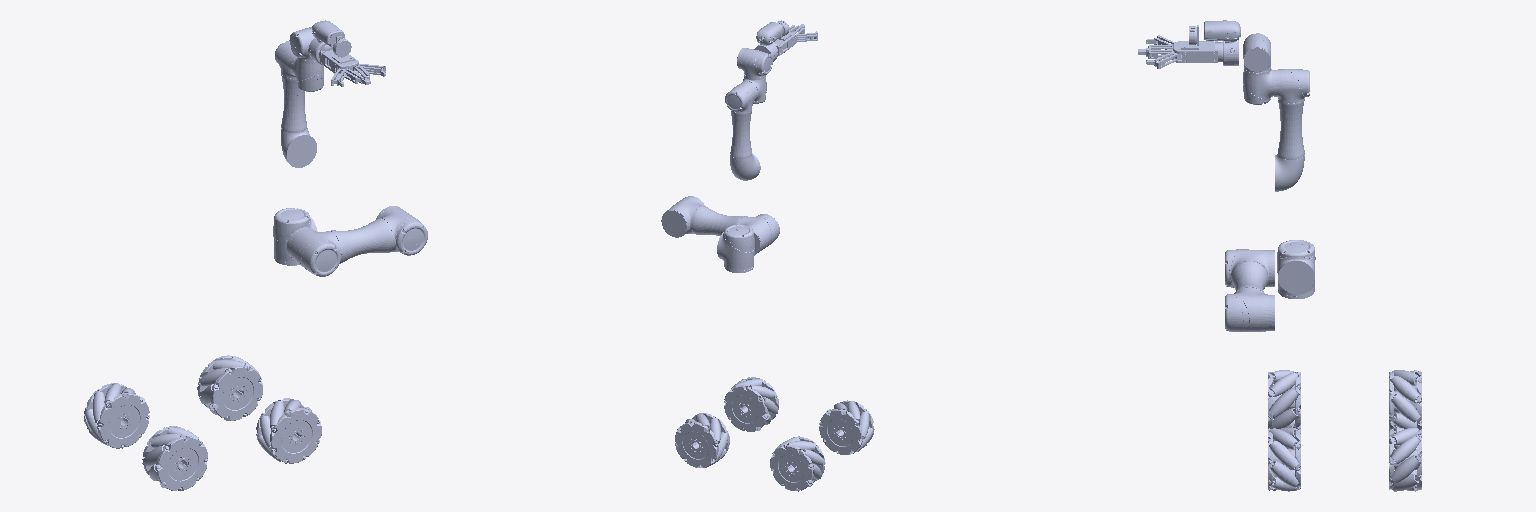
--- Facts derived from the render (not from the file) ---
The picture shows the robot from 3 angles, left to right: view 1: azimuth 30°, elevation 25°; view 2: azimuth 150°, elevation 25°; view 3: azimuth 270°, elevation 25°; orthographic projection.
Model AMR with 17 links and 16 joints (16 continuous), rooted at base_link, posed all joints at 0.
Visible links, largest first — view 1: Link2, wheel_B_R, wheel_F_R, wheel_B_L, wheel_F_L, Link3, Link6, Link1, Link4, Link5; view 2: Link2, wheel_B_R, wheel_B_L, wheel_F_R, wheel_F_L, Link3, Link1, Link6, Link5; view 3: Link2, Link3, Link6, Link1, wheel_B_R, wheel_B_L, wheel_F_R, wheel_F_L, Link5, Link4.
Link boxes in pixels (x1=…): Link2: x1=287, y1=206, x2=427, y2=276; wheel_B_R: x1=197, y1=355, x2=262, y2=420; wheel_F_R: x1=84, y1=383, x2=149, y2=448; wheel_B_L: x1=256, y1=398, x2=321, y2=463; wheel_F_L: x1=142, y1=426, x2=207, y2=490; Link3: x1=275, y1=41, x2=316, y2=167; Link6: x1=308, y1=20, x2=385, y2=86; Link1: x1=273, y1=208, x2=317, y2=265; Link4: x1=292, y1=57, x2=323, y2=91; Link5: x1=289, y1=27, x2=314, y2=59; Link2: x1=661, y1=196, x2=779, y2=254; wheel_B_R: x1=675, y1=413, x2=729, y2=467; wheel_B_L: x1=724, y1=377, x2=778, y2=431; wheel_F_R: x1=770, y1=436, x2=825, y2=491; wheel_F_L: x1=819, y1=400, x2=874, y2=454; Link3: x1=725, y1=81, x2=760, y2=180; Link1: x1=717, y1=225, x2=754, y2=272; Link6: x1=754, y1=20, x2=817, y2=61; Link5: x1=737, y1=48, x2=772, y2=77; Link2: x1=1225, y1=249, x2=1274, y2=331; Link3: x1=1273, y1=69, x2=1309, y2=191; Link6: x1=1146, y1=20, x2=1240, y2=68; Link1: x1=1277, y1=240, x2=1315, y2=298; wheel_B_R: x1=1389, y1=427, x2=1421, y2=491; wheel_B_L: x1=1268, y1=427, x2=1300, y2=491; wheel_F_R: x1=1389, y1=370, x2=1421, y2=429; wheel_F_L: x1=1268, y1=370, x2=1300, y2=429; Link5: x1=1243, y1=33, x2=1270, y2=71; Link4: x1=1243, y1=67, x2=1272, y2=104.
Size in the robot's own frame: 0.9605 by 0.9035 by 1.65 metres.
16 mesh visuals loaded from 17 distinct referenced files (16 binary STL); not drawn: 1 (reference not matched to a file when rendering).

URDF robot description (AMR):
<?xml version="1.0" encoding="utf-8"?>
<!-- This URDF was automatically created by SolidWorks to URDF Exporter! Originally created by Stephen Brawner ([email redacted])
     Commit Version: 1.5.1-0-g916b5db  Build Version: 1.5.7152.31018
     For more information, please see http://wiki.ros.org/sw_urdf_exporter -->
<robot
  name="AMR">
  <link
    name="base_link">
    <inertial>
      <origin
        xyz="-0.196606705292027 0.159554091935045 -0.273511077260373"
        rpy="0 0 0" />
      <mass
        value="500.7267203354665" />
      <inertia
        ixx="0.245199821787348"
        ixy="-0.0146020356478743"
        ixz="0.00114585040763245"
        iyy="0.01842185935952"
        iyz="0.00568904788569762"
        izz="0.017511925728549" />
    </inertial>
    <visual>
      <origin
        xyz="0 0 0"
        rpy="0 0 0" />
      <geometry>
        <mesh
          filename="package://robot_urdf/meshes/base_link.STL" />
      </geometry>
      <material
        name="">
        <color
          rgba="0.752941176470588 0.752941176470588 0.752941176470588 1" />
      </material>
    </visual>
    <collision>
      <origin
        xyz="0 0 0"
        rpy="0 0 0" />
      <geometry>
        <mesh
          filename="package://robot_urdf/meshes/base_link.STL" />
      </geometry>
    </collision>
  </link>
  <link
    name="Link1">
    <inertial>
      <origin
        xyz="-3.9557557949727E-07 -0.00516519388667518 -0.00167929259360572"
        rpy="0 0 0" />
      <mass
        value="3" />
      <inertia
        ixx="0.014235114183528"
        ixy="-3.6087403321191E-09"
        ixz="-3.6752928019213E-09"
        iyy="0.01335589384967783"
        iyz="0.000490266026627554"
        izz="0.01374799670943419" />
    </inertial>
    <visual>
      <origin
        xyz="0 0 0"
        rpy="0 0 0" />
      <geometry>
        <mesh
          filename="package://robot_urdf/meshes/Link1.STL" />
      </geometry>
      <material
        name="">
        <color
          rgba="0.792156862745098 0.819607843137255 0.933333333333333 1" />
      </material>
    </visual>
    <collision>
      <origin
        xyz="0 0 0"
        rpy="0 0 0" />
      <geometry>
        <mesh
          filename="package://robot_urdf/meshes/Link1.STL" />
      </geometry>
    </collision>
  </link>
  <joint
    name="J1"
    type="continuous">
    <origin
      xyz="0 0 0.1475"
      rpy="0 0 0" />
    <parent
      link="base_link" />
    <child
      link="Link1" />
    <axis
      xyz="0 0 1" />
    <limit
      lower="-4.7124"
      upper="4.7124"
      effort="150"
      velocity="3.15" />
    <dynamics
      damping="100"
      friction="0.1" />
    <safety_controller
      soft_upper="4.5623"
      soft_lower="-4.5623"
      k_position="20"
      k_velocity="0" />
</joint>
  <link
    name="Link2">
    <inertial>
      <origin
        xyz="-1.43281762434376E-06 -0.166801030300401 -0.0802984213812574"
        rpy="0 0 0" />
      <mass
        value="5.44943936541327" />
      <inertia
        ixx="0.0140432088595686"
        ixy="5.49330933805574E-08"
        ixz="-7.21091110531749E-09"
        iyy="0.01871992846258551"
        iyz="-8.63877237373935E-09"
        izz="0.014692082991395" />
    </inertial>
    <visual>
      <origin
        xyz="0 0 0"
        rpy="0 0 0" />
      <geometry>
        <mesh
          filename="package://robot_urdf/meshes/Link2.STL" />
      </geometry>
      <material
        name="">
        <color
          rgba="0.792156862745098 0.819607843137255 0.933333333333333 1" />
      </material>
    </visual>
    <collision>
      <origin
        xyz="0 0 0"
        rpy="0 0 0" />
      <geometry>
        <mesh
          filename="package://robot_urdf/meshes/Link2.STL" />
      </geometry>
    </collision>
  </link>
  <joint
    name="J2"
    type="continuous">
    <origin
      xyz="0 -0.0668 0"
      rpy="-1.5708 0 0" />
    <parent
      link="Link1" />
    <child
      link="Link2" />
    <axis
      xyz="0 0 1" />
    <limit
      lower="-3.1416"
      upper="3.1416"
      effort="150"
      velocity="3.15" />
    <dynamics
      damping="0"
      friction="0.1" />
    <safety_controller
      soft_upper="2.9915"
      soft_lower="-2.9915"
      k_position="20"
      k_velocity="0" />
</joint>
  <link
    name="Link3">
    <inertial>
      <origin
        xyz="0.163906866569285 0.00204207088293753 0.0427273661299001"
        rpy="0 0 0" />
      <mass
        value="5" />
      <inertia
        ixx="0.0142717655146959"
        ixy="-4.49505584886413E-06"
        ixz="-4.36033883588361E-05"
        iyy="0.0197557551378141"
        iyz="0.00296684636365749"
        izz="0.0110597487276951" />
    </inertial>
    <visual>
      <origin
        xyz="0 0 0"
        rpy="0 0 0" />
      <geometry>
        <mesh
          filename="package://robot_urdf/meshes/Link3.STL" />
      </geometry>
      <material
        name="">
        <color
          rgba="0.792156862745098 0.819607843137255 0.933333333333333 1" />
      </material>
    </visual>
    <collision>
      <origin
        xyz="0 0 0"
        rpy="0 0 0" />
      <geometry>
        <mesh
          filename="package://robot_urdf/meshes/Link3.STL" />
      </geometry>
    </collision>
  </link>
  <joint
    name="J3"
    type="continuous">
    <origin
      xyz="0 -0.3336 0"
      rpy="0 0 -1.5708" />
    <parent
      link="Link2" />
    <child
      link="Link3" />
    <axis
      xyz="0 0 1" />
    <limit
      lower="-3.1416"
      upper="3.1416"
      effort="150"
      velocity="3.15" />
    <dynamics
      damping="0"
      friction="0.1" />
    <safety_controller
      soft_upper="2.9915"
      soft_lower="-2.9915"
      k_position="20"
      k_velocity="0" />
  </joint>
  <link
    name="Link4">
    <inertial>
      <origin
        xyz="6.40693202712539E-05 -4.23991765977634E-06 -0.0455850272994037"
        rpy="0 0 0" />
      <mass
        value="2" />
      <inertia
        ixx="0.01826321885544255"
        ixy="-5.94152792091871E-08"
        ixz="0.000112733093053525"
        iyy="0.017815978561136"
        iyz="-1.12895437309913E-07"
        izz="0.01765195367462656" />
    </inertial>
    <visual>
      <origin
        xyz="0 0 0"
        rpy="0 0 0" />
      <geometry>
        <mesh
          filename="package://robot_urdf/meshes/Link4.STL" />
      </geometry>
      <material
        name="">
        <color
          rgba="0.792156862745098 0.819607843137255 0.933333333333333 1" />
      </material>
    </visual>
    <collision>
      <origin
        xyz="0 0 0"
        rpy="0 0 0" />
      <geometry>
        <mesh
          filename="package://robot_urdf/meshes/Link4.STL" />
      </geometry>
    </collision>
  </link>
  <joint
    name="J4"
    type="continuous">
    <origin
      xyz="0.3159 0 -0.008"
      rpy="0 0 0" />
    <parent
      link="Link3" />
    <child
      link="Link4" />
    <axis
      xyz="0 0 1" />
    <limit
      lower="-3.1416"
      upper="3.1416"
      effort="150"
      velocity="3.15" />
    <dynamics
      damping="0"
      friction="0.1" />
    <safety_controller
      soft_upper="2.9915"
      soft_lower="-2.9915"
      k_position="20"
      k_velocity="0" />
  </joint>
  <link
    name="Link5">
    <inertial>
      <origin
        xyz="4.23991767819046E-06 -6.40693202936388E-05 0.0455850272994301"
        rpy="0 0 0" />
      <mass
        value="2" />
      <inertia
        ixx="0.01778159785610233"
        ixy="-5.94152793246358E-08"
        ixz="-1.12895437168408E-07"
        iyy="0.01826321885543661"
        iyz="0.000112733093053225"
        izz="0.01765195367462816" />
    </inertial>
    <visual>
      <origin
        xyz="0 0 0"
        rpy="0 0 0" />
      <geometry>
        <mesh
          filename="package://robot_urdf/meshes/Link5.STL" />
      </geometry>
      <material
        name="">
        <color
          rgba="0.792156862745098 0.819607843137255 0.933333333333333 1" />
      </material>
    </visual>
    <collision>
      <origin
        xyz="0 0 0"
        rpy="0 0 0" />
      <geometry>
        <mesh
          filename="package://robot_urdf/meshes/Link5.STL" />
      </geometry>
    </collision>
  </link>
  <joint
    name="J5"
    type="continuous">
    <origin
      xyz="0.0585 0 -0.0497"
      rpy="1.5708 0 1.5708" />
    <parent
      link="Link4" />
    <child
      link="Link5" />
    <axis
      xyz="0 0 1" />
    <limit
      lower="-3.1416"
      upper="3.1416"
      effort="150"
      velocity="3.15" />
    <dynamics
      damping="0"
      friction="0.1" />
    <safety_controller
      soft_upper="2.9915"
      soft_lower="-2.9915"
      k_position="20"
      k_velocity="0" />
  </joint>
  <link
    name="Link6">
    <inertial>
      <origin
        xyz="0.0398556522442787 1.38142121641166E-05 -0.00504358694194176"
        rpy="0 0 0" />
      <mass
        value="2" />
      <inertia
        ixx="0.0142987939905659"
        ixy="-1.99772335583246E-06"
        ixz="-9.34839407616686E-06"
        iyy="0.01885238635123801"
        iyz="-5.45540435736186E-07"
        izz="0.0102306026344869" />
    </inertial>
    <visual>
      <origin
        xyz="0 0 0"
        rpy="0 0 0" />
      <geometry>
        <mesh
          filename="package://robot_urdf/meshes/Link6.STL" />
      </geometry>
      <material
        name="">
        <color
          rgba="0.792156862745098 0.819607843137255 0.933333333333333 1" />
      </material>
    </visual>
    <collision>
      <origin
        xyz="0 0 0"
        rpy="0 0 0" />
      <geometry>
        <mesh
          filename="package://robot_urdf/meshes/Link6.STL" />
      </geometry>
    </collision>
  </link>
  <joint
    name="J6"
    type="continuous">
    <origin
      xyz="0 -0.11535 0.0497"
      rpy="1.5708 -1.5708 0" />
    <parent
      link="Link5" />
    <child
      link="Link6" />
    <axis
      xyz="0 0 1" />
    <limit
      lower="-4.7124"
      upper="4.7124"
      effort="150"
      velocity="0" />
    <dynamics
      damping="0"
      friction="0.1" />
    <safety_controller
      soft_upper="4.5623"
      soft_lower="-4.5623"
      k_position="20"
      k_velocity="0" />
  </joint>
  <link
    name="Link_GL1">
    <inertial>
      <origin
        xyz="-0.16637212220033 0.472139503970096 -1.03585123952187"
        rpy="0 0 0" />
      <mass
        value="0.01" />
      <inertia
        ixx="0.01"
        ixy="0.00000001"
        ixz="0.0000001"
        iyy="0.01"
        iyz="0.00000001"
        izz="0.01" />
    </inertial>
    <visual>
      <origin
        xyz="0 0 0"
        rpy="0 0 0" />
      <geometry>
        <mesh
          filename="package://robot_urdf/meshes/Link_GL1.STL" />
      </geometry>
      <material
        name="">
        <color
          rgba="0.792156862745098 0.819607843137255 0.933333333333333 1" />
      </material>
    </visual>
    <collision>
      <origin
        xyz="0 0 0"
        rpy="0 0 0" />
      <geometry>
        <mesh
          filename="package://robot_urdf/meshes/Link_GL1.STL" />
      </geometry>
    </collision>
  </link>
  <joint
    name="GL1"
    type="continuous">
    <origin
      xyz="0.021 -0.016 0.1445"
      rpy="-1.5708 0 -1.5708" />
    <parent
      link="Link6" />
    <child
      link="Link_GL1" />
    <axis
      xyz="0 0 1" />
  </joint>
  <link
    name="Link_GL3">
    <inertial>
      <origin
        xyz="-0.156876261139178 -0.561637149876048 1.02605123952187"
        rpy="0 0 0" />
      <mass
        value="0.01" />
      <inertia
        ixx="0.01"
        ixy="0.000000001"
        ixz="0.0000000001"
        iyy="0.01"
        iyz="0.00000000001"
        izz="0.01" />
    </inertial>
    <visual>
      <origin
        xyz="0 0 0"
        rpy="0 0 0" />
      <geometry>
        <mesh
          filename="package://robot_urdf/meshes/Link_GL3.STL" />
      </geometry>
      <material
        name="">
        <color
          rgba="0.792156862745098 0.819607843137255 0.933333333333333 1" />
      </material>
    </visual>
    <collision>
      <origin
        xyz="0 0 0"
        rpy="0 0 0" />
      <geometry>
        <mesh
          filename="package://robot_urdf/meshes/Link_GL3.STL" />
      </geometry>
    </collision>
  </link>
  <joint
    name="GL3"
    type="continuous">
    <origin
      xyz="-0.0094959 -0.089498 -0.0098"
      rpy="3.1416 0 0" />
    <parent
      link="Link_GL1" />
    <child
      link="Link_GL3" />
    <axis
      xyz="0 0 1" />
  </joint>
  <link
    name="Link_GL2">
    <inertial>
      <origin
        xyz="-0.182826604872234 0.462639503970095 -1.03585123952187"
        rpy="0 0 0" />
      <mass
        value="0.01" />
      <inertia
        ixx="0.01"
        ixy="0.000000001"
        ixz="0.00000001"
        iyy="0.01"
        iyz="0.000000000001"
        izz="0.01" />
    </inertial>
    <visual>
      <origin
        xyz="0 0 0"
        rpy="0 0 0" />
      <geometry>
        <mesh
          filename="package://robot_urdf/meshes/Link_GL2.STL" />
      </geometry>
      <material
        name="">
        <color
          rgba="0.792156862745098 0.819607843137255 0.933333333333333 1" />
      </material>
    </visual>
    <collision>
      <origin
        xyz="0 0 0"
        rpy="0 0 0" />
      <geometry>
        <mesh
          filename="package://robot_urdf/meshes/Link_GL2.STL" />
      </geometry>
    </collision>
  </link>
  <joint
    name="GL2"
    type="continuous">
    <origin
      xyz="0.021 -0.032454 0.135"
      rpy="-1.5708 0 -1.5708" />
    <parent
      link="Link6" />
    <child
      link="Link_GL2" />
    <axis
      xyz="0 0 1" />
  </joint>
  <link
    name="Link_GR1">
    <inertial>
      <origin
        xyz="-0.13437212220033 0.472139503970097 -1.03585123952187"
        rpy="0 0 0" />
      <mass
        value="0.01" />
      <inertia
        ixx="0.01"
        ixy="0.0000000001"
        ixz="0.000000000001"
        iyy="0.01"
        iyz="0.000000000001"
        izz="0.01" />
    </inertial>
    <visual>
      <origin
        xyz="0 0 0"
        rpy="0 0 0" />
      <geometry>
        <mesh
          filename="package://robot_urdf/meshes/Link_GR1.STL" />
      </geometry>
      <material
        name="">
        <color
          rgba="0.792156862745098 0.819607843137255 0.933333333333333 1" />
      </material>
    </visual>
    <collision>
      <origin
        xyz="0 0 0"
        rpy="0 0 0" />
      <geometry>
        <mesh
          filename="package://robot_urdf/meshes/Link_GR1.STL" />
      </geometry>
    </collision>
  </link>
  <joint
    name="GR1"
    type="continuous">
    <origin
      xyz="0.021 0.016 0.1445"
      rpy="-1.5708 0 -1.5708" />
    <parent
      link="Link6" />
    <child
      link="Link_GR1" />
    <axis
      xyz="0 0 1" />
  </joint>
  <link
    name="Link_GR3">
    <inertial>
      <origin
        xyz="-0.143875493211592 -0.561636352738209 1.02605123952187"
        rpy="0 0 0" />
      <mass
        value="0.01" />
      <inertia
        ixx="0.01"
        ixy="0.0000000001"
        ixz="0.0000000001"
        iyy="0.01"
        iyz="0.0000000001"
        izz="0.01" />
    </inertial>
    <visual>
      <origin
        xyz="0 0 0"
        rpy="0 0 0" />
      <geometry>
        <mesh
          filename="package://robot_urdf/meshes/Link_GR3.STL" />
      </geometry>
      <material
        name="">
        <color
          rgba="0.792156862745098 0.819607843137255 0.933333333333333 1" />
      </material>
    </visual>
    <collision>
      <origin
        xyz="0 0 0"
        rpy="0 0 0" />
      <geometry>
        <mesh
          filename="package://robot_urdf/meshes/Link_GR3.STL" />
      </geometry>
    </collision>
  </link>
  <joint
    name="GR3"
    type="continuous">
    <origin
      xyz="0.0095034 -0.089497 -0.0098"
      rpy="3.1416 0 0" />
    <parent
      link="Link_GR1" />
    <child
      link="Link_GR3" />
    <axis
      xyz="0 0 1" />
  </joint>
  <link
    name="Link_GR2">
    <inertial>
      <origin
        xyz="-0.117917639528424 0.462639503970097 -1.03585123952187"
        rpy="0 0 0" />
      <mass
        value="0.01" />
      <inertia
        ixx="0.01"
        ixy="0.00000000001"
        ixz="0.00000000001"
        iyy="0.01"
        iyz="0.00000000001"
        izz="0.01" />
    </inertial>
    <visual>
      <origin
        xyz="0 0 0"
        rpy="0 0 0" />
      <geometry>
        <mesh
          filename="package://robot_urdf/meshes/Link_GR2.STL" />
      </geometry>
      <material
        name="">
        <color
          rgba="0.792156862745098 0.819607843137255 0.933333333333333 1" />
      </material>
    </visual>
    <collision>
      <origin
        xyz="0 0 0"
        rpy="0 0 0" />
      <geometry>
        <mesh
          filename="package://robot_urdf/meshes/Link_GR2.STL" />
      </geometry>
    </collision>
  </link>
  <joint
    name="GR2"
    type="continuous">
    <origin
      xyz="0.021 0.032454 0.135"
      rpy="-1.5708 0 -1.5708" />
    <parent
      link="Link6" />
    <child
      link="Link_GR2" />
    <axis
      xyz="0 0 1" />
  </joint>
  <link
    name="wheel_F_L">
    <inertial>
      <origin
        xyz="-1.38363501900329E-06 6.97742802455714E-05 -0.0503799267135691"
        rpy="0 0 0" />
      <mass
        value="2.539475870443" />
      <inertia
        ixx="0.01"
        ixy="-1.66708118841979E-07"
        ixz="5.81033221438772E-09"
        iyy="0.01"
        iyz="-1.65794747105579E-08"
        izz="0.01" />
    </inertial>
    <visual>
      <origin
        xyz="0 0 0"
        rpy="0 0 0" />
      <geometry>
        <mesh
          filename="package://robot_urdf/meshes/wheel_F_L.STL" />
      </geometry>
      <material
        name="">
        <color
          rgba="0.792156862745098 0.819607843137255 0.933333333333333 1" />
      </material>
    </visual>
    <collision>
      <origin
        xyz="0 0 0"
        rpy="0 0 0" />
      <geometry>
        <mesh
          filename="package://robot_urdf/meshes/wheel_F_L.STL" />
      </geometry>
    </collision>
  </link>
  <joint
    name="FL"
    type="continuous">
    <origin
      xyz="-0.46462 -0.08935 -0.53674"
      rpy="1.5708 -1.5708 0" />
    <parent
      link="base_link" />
    <child
      link="wheel_F_L" />
    <axis
      xyz="0 0 1" />
  </joint>
  <link
    name="wheel_B_L">
    <inertial>
      <origin
        xyz="-2.63303732548348E-05 2.04498458514224E-05 -0.0506202312776868"
        rpy="0 0 0" />
      <mass
        value="2.53947858939897" />
      <inertia
        ixx="0.01"
        ixy="-2.02103131606587E-06"
        ixz="-1.13808742306533E-08"
        iyy="0.01"
        iyz="8.70237141444533E-09"
        izz="0.01" />
    </inertial>
    <visual>
      <origin
        xyz="0 0 0"
        rpy="0 0 0" />
      <geometry>
        <mesh
          filename="package://robot_urdf/meshes/wheel_B_L.STL" />
      </geometry>
      <material
        name="">
        <color
          rgba="0.792156862745098 0.819607843137255 0.933333333333333 1" />
      </material>
    </visual>
    <collision>
      <origin
        xyz="0 0 0"
        rpy="0 0 0" />
      <geometry>
        <mesh
          filename="package://robot_urdf/meshes/wheel_B_L.STL" />
      </geometry>
    </collision>
  </link>
  <joint
    name="BL"
    type="continuous">
    <origin
      xyz="-0.033116 -0.08935 -0.53677"
      rpy="1.5708 -1.5708 0" />
    <parent
      link="base_link" />
    <child
      link="wheel_B_L" />
    <axis
      xyz="0 0 1" />
  </joint>
  <link
    name="wheel_F_R">
    <inertial>
      <origin
        xyz="-3.20627539841523E-05 9.17519344834083E-06 0.0503797641813268"
        rpy="0 0 0" />
      <mass
        value="2.53947859601394" />
      <inertia
        ixx="0.01"
        ixy="-1.10624174701724E-06"
        ixz="-8.96663063768363E-09"
        iyy="0.01"
        iyz="1.14941179662581E-09"
        izz="0.01" />
    </inertial>
    <visual>
      <origin
        xyz="0 0 0"
        rpy="0 0 0" />
      <geometry>
        <mesh
          filename="package://robot_urdf/meshes/wheel_F_R.STL" />
      </geometry>
      <material
        name="">
        <color
          rgba="0.792156862745098 0.819607843137255 0.933333333333333 1" />
      </material>
    </visual>
    <collision>
      <origin
        xyz="0 0 0"
        rpy="0 0 0" />
      <geometry>
        <mesh
          filename="package://robot_urdf/meshes/wheel_F_R.STL" />
      </geometry>
    </collision>
  </link>
  <joint
    name="FR"
    type="continuous">
    <origin
      xyz="-0.46462 0.39675 -0.53674"
      rpy="1.5708 -1.5708 0" />
    <parent
      link="base_link" />
    <child
      link="wheel_F_R" />
    <axis
      xyz="0 0 1" />
  </joint>
  <link
    name="wheel_B_R">
    <inertial>
      <origin
        xyz="-1.38348070943817E-06 3.34694039486189E-05 0.0506200735263618"
        rpy="0 0 0" />
      <mass
        value="2.53947586176856" />
      <inertia
        ixx="0.01"
        ixy="-1.66708440675735E-07"
        ixz="5.81031526867032E-09"
        iyy="0.01"
        iyz="-1.65793950432721E-08"
        izz="0.01" />
    </inertial>
    <visual>
      <origin
        xyz="0 0 0"
        rpy="0 0 0" />
      <geometry>
        <mesh
          filename="package://robot_urdf/meshes/wheel_B_R.STL" />
      </geometry>
      <material
        name="">
        <color
          rgba="0.792156862745098 0.819607843137255 0.933333333333333 1" />
      </material>
    </visual>
    <collision>
      <origin
        xyz="0 0 0"
        rpy="0 0 0" />
      <geometry>
        <mesh
          filename="package://robot_urdf/meshes/wheel_B_R.STL" />
      </geometry>
    </collision>
  </link>
  <joint
    name="BR"
    type="continuous">
    <origin
      xyz="-0.033153 0.39725 -0.53677"
      rpy="1.5708 -1.5708 0" />
    <parent
      link="base_link" />
    <child
      link="wheel_B_R" />
    <axis
      xyz="0 0 1" />
  </joint>

<transmission name="BR_trans" type="SimpleTransmission">
    <type>transmission_interface/SimpleTransmission</type>
    <actuator name="BR_motor">
        <hardwareInterface>hardware_interface/VelocityJointInterface</hardwareInterface>
        <mechanicalReduction>1</mechanicalReduction>
    </actuator>
    <joint name="BR">
        <hardwareInterface>hardware_interface/VelocityJointInterface</hardwareInterface>
    </joint>
</transmission>
<transmission name="BL_trans" type="SimpleTransmission">
    <type>transmission_interface/SimpleTransmission</type>
    <actuator name="BL_motor">
        <hardwareInterface>hardware_interface/VelocityJointInterface</hardwareInterface>
        <mechanicalReduction>1</mechanicalReduction>
    </actuator>
    <joint name="BL">
        <hardwareInterface>hardware_interface/VelocityJointInterface</hardwareInterface>
    </joint>
</transmission>
<transmission name="FR_trans" type="SimpleTransmission">
    <type>transmission_interface/SimpleTransmission</type>
    <actuator name="FR_motor">
        <hardwareInterface>hardware_interface/VelocityJointInterface</hardwareInterface>
        <mechanicalReduction>1</mechanicalReduction>
    </actuator>
    <joint name="FR">
        <hardwareInterface>hardware_interface/VelocityJointInterface</hardwareInterface>
    </joint>
</transmission>
<transmission name="Fl_trans" type="SimpleTransmission">
    <type>transmission_interface/SimpleTransmission</type>
    <actuator name="FL_motor">
        <hardwareInterface>hardware_interface/VelocityJointInterface</hardwareInterface>
        <mechanicalReduction>1</mechanicalReduction>
    </actuator>
    <joint name="FL">
        <hardwareInterface>hardware_interface/VelocityJointInterface</hardwareInterface>
    </joint>
</transmission>


<transmission name="J1_trans" type="SimpleTransmission">
<type>transmission_interface/SimpleTransmission</type>
<actuator name="J1_motor">
    <hardwareInterface>hardware_interface/PositionJointInterface</hardwareInterface>
    <mechanicalReduction>1</mechanicalReduction>
</actuator>
<joint name="J1">
    <hardwareInterface>hardware_interface/PositionJointInterface</hardwareInterface>
</joint>
</transmission>



<transmission name="J2_trans" type="SimpleTransmission">
<type>transmission_interface/SimpleTransmission</type>
<actuator name="J2_motor">
    <hardwareInterface>hardware_interface/PositionJointInterface</hardwareInterface>
    <mechanicalReduction>1</mechanicalReduction>
</actuator>
<joint name="J2">
    <hardwareInterface>hardware_interface/PositionJointInterface</hardwareInterface>
</joint>
</transmission>


<transmission name="J3_trans" type="SimpleTransmission">
<type>transmission_interface/SimpleTransmission</type>
<actuator name="J3_motor">
    <hardwareInterface>hardware_interface/PositionJointInterface</hardwareInterface>
    <mechanicalReduction>1</mechanicalReduction>
</actuator>
<joint name="J3">
    <hardwareInterface>hardware_interface/PositionJointInterface</hardwareInterface>
</joint>
</transmission>


<transmission name="J4_trans" type="SimpleTransmission">
<type>transmission_interface/SimpleTransmission</type>
<actuator name="J4_motor">
    <hardwareInterface>hardware_interface/PositionJointInterface</hardwareInterface>
    <mechanicalReduction>1</mechanicalReduction>
</actuator>
<joint name="J4">
    <hardwareInterface>hardware_interface/PositionJointInterface</hardwareInterface>
</joint>
</transmission>


<transmission name="J5_trans" type="SimpleTransmission">
<type>transmission_interface/SimpleTransmission</type>
<actuator name="J5_motor">
    <hardwareInterface>hardware_interface/PositionJointInterface</hardwareInterface>
    <mechanicalReduction>1</mechanicalReduction>
</actuator>
<joint name="J5">
    <hardwareInterface>hardware_interface/PositionJointInterface</hardwareInterface>
</joint>
</transmission>


<transmission name="J6_trans" type="SimpleTransmission">
<type>transmission_interface/SimpleTransmission</type>
<actuator name="J6_motor">
    <hardwareInterface>hardware_interface/PositionJointInterface</hardwareInterface>
    <mechanicalReduction>1</mechanicalReduction>
</actuator>
<joint name="J6">
    <hardwareInterface>hardware_interface/PositionJointInterface</hardwareInterface>
</joint>
</transmission>


<transmission name="GR1_trans" type="SimpleTransmission">
<type>transmission_interface/SimpleTransmission</type>
<actuator name="GR1_motor">
    <hardwareInterface>hardware_interface/PositionJointInterface</hardwareInterface>
    <mechanicalReduction>1</mechanicalReduction>
</actuator>
<joint name="GR1">
    <hardwareInterface>hardware_interface/PositionJointInterface</hardwareInterface>
</joint>
</transmission>

<transmission name="GR2_trans" type="SimpleTransmission">
<type>transmission_interface/SimpleTransmission</type>
<actuator name="GR2_motor">
    <hardwareInterface>hardware_interface/PositionJointInterface</hardwareInterface>
    <mechanicalReduction>1</mechanicalReduction>
</actuator>
<joint name="GR2">
    <hardwareInterface>hardware_interface/PositionJointInterface</hardwareInterface>
</joint>
</transmission>

<transmission name="GR3_trans" type="SimpleTransmission">
<type>transmission_interface/SimpleTransmission</type>
<actuator name="GR3_motor">
    <hardwareInterface>hardware_interface/PositionJointInterface</hardwareInterface>
    <mechanicalReduction>1</mechanicalReduction>
</actuator>
<joint name="GR3">
    <hardwareInterface>hardware_interface/PositionJointInterface</hardwareInterface>
</joint>
</transmission>


<transmission name="GL1_trans" type="SimpleTransmission">
<type>transmission_interface/SimpleTransmission</type>
<actuator name="GL1_motor">
    <hardwareInterface>hardware_interface/PositionJointInterface</hardwareInterface>
    <mechanicalReduction>1</mechanicalReduction>
</actuator>
<joint name="GL1">
    <hardwareInterface>hardware_interface/PositionJointInterface</hardwareInterface>
</joint>


</transmission>
<transmission name="GL2_trans" type="SimpleTransmission">
<type>transmission_interface/SimpleTransmission</type>
<actuator name="GL2_motor">
    <hardwareInterface>hardware_interface/PositionJointInterface</hardwareInterface>
    <mechanicalReduction>1</mechanicalReduction>
</actuator>
<joint name="GL2">
    <hardwareInterface>hardware_interface/PositionJointInterface</hardwareInterface>
</joint>
</transmission>


<transmission name="GL3_trans" type="SimpleTransmission">
<type>transmission_interface/SimpleTransmission</type>
<actuator name="GL3_motor">
    <hardwareInterface>hardware_interface/PositionJointInterface</hardwareInterface>
    <mechanicalReduction>1</mechanicalReduction>
</actuator>
<joint name="GL3">
    <hardwareInterface>hardware_interface/PositionJointInterface</hardwareInterface>
</joint>
</transmission>

<gazebo>
    <plugin name="gazebo_ros_control" filename="libgazebo_ros_control.so">
        <robotNamespace>/</robotNamespace>
        <controlPeriod>0.001</controlPeriod>
        <legacyModeNS>false</legacyModeNS>
    </plugin>
</gazebo>
<gazebo>
    <plugin name="joint_state_publisher" filename="libgazebo_ros_joint_state_publisher.so">
        <jointName>
        J1, J2, J3, J4, J5, J6, GR1, GR2, GR3, GL1, GL2, GL3
        </jointName>
    </plugin>
</gazebo>


<gazebo>
    <plugin name="diff_drive_controller" filename="libgazebo_ros_diff_drive.so">
        <legacyMode>false</legacyMode>
        <alwaysOn>true</alwaysOn>
        <updateRate>1000.0</updateRate>
        <leftJoint>FL, BL</leftJoint>
        <rightJoint>FR, BR</rightJoint>
        <wheelSeparation>0.5</wheelSeparation>
        <wheelDiameter>0.2</wheelDiameter>
        <wheelTorque>10</wheelTorque>
        <publishTf>1</publishTf>
        <odometryFrame>map</odometryFrame>
        <commandTopic>cmd_vel</commandTopic>
        <odometryTopic>odom</odometryTopic>
        <robotBaseFrame>base_link</robotBaseFrame>
        <wheelAcceleration>2.8</wheelAcceleration>
        <publishWheelJointState>true</publishWheelJointState>
        <publishWheelTF>false</publishWheelTF>
        <odometrySource>world</odometrySource>
        <rosDebugLevel>Debug</rosDebugLevel>
    </plugin>
</gazebo>

<gazebo reference="wheel_B_L">
    <mu1 value="1.0"/>
    <mu2 value="1.0"/>
    <kp value="10000000.0"/>
    <kd value="1.0"/>
    <fdir1 value="1 0 0"/>
</gazebo>
<gazebo reference="wheel_B_R">
    <mu1 value="1.0"/>
    <mu2 value="1.0"/>
    <kp value="10000000.0"/>
    <kd value="1.0"/>
    <fdir1 value="1 0 0"/>
</gazebo>
<gazebo reference="wheel_F_L">
    <mu1 value="1.0"/>
    <mu2 value="1.0"/>
    <kp value="10000000.0"/>
    <kd value="1.0"/>
    <fdir1 value="1 0 0"/>
</gazebo>
<gazebo reference="wheel_F_R">
    <mu1 value="1.0"/>
    <mu2 value="1.0"/>
    <kp value="10000000.0"/>
    <kd value="1.0"/>
    <fdir1 value="1 0 0"/>
</gazebo>

</robot>
